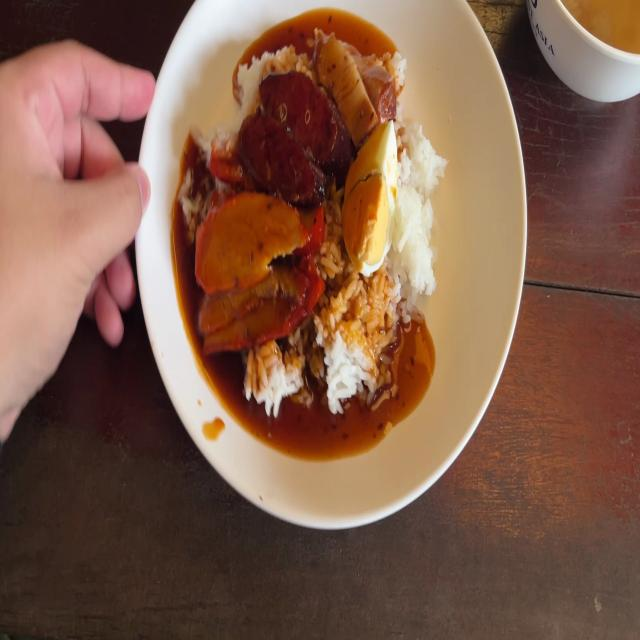red_pork_and_crispy_pork: (349, 132, 396, 272)
stir_fried_basil: (242, 73, 351, 191), (262, 70, 351, 170), (237, 113, 332, 206)
